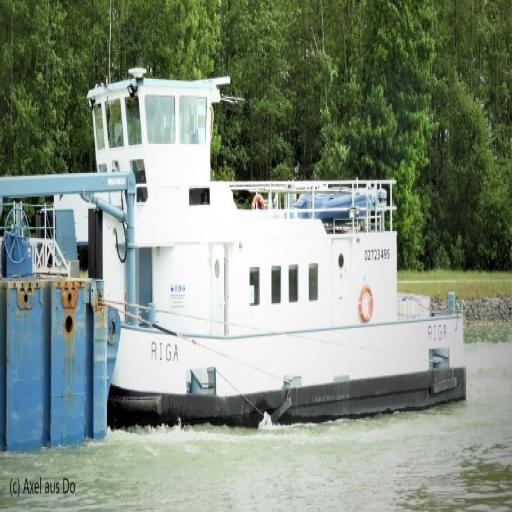tugboat: (63, 62, 473, 441)
